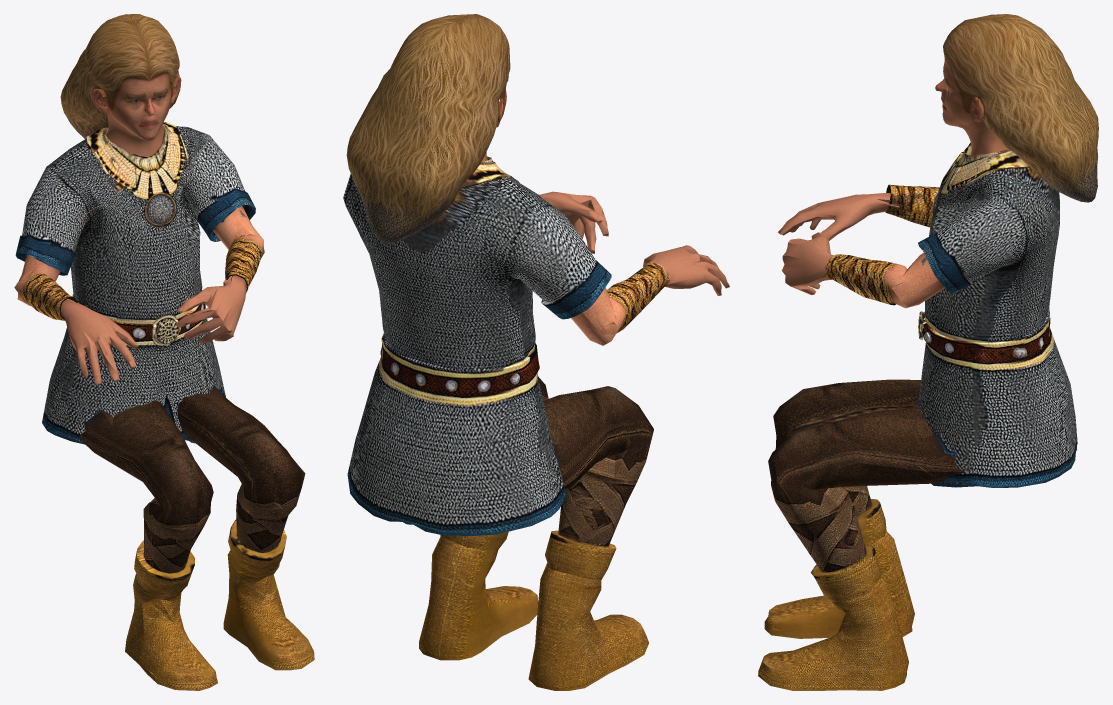
Rendered from mm9_deco_sigmundseated.glb.
3 views of the same model, side by side, from view 1: azimuth 30°, elevation 25°; view 2: azimuth 150°, elevation 25°; view 3: azimuth 270°, elevation 25° (orthographic). The views are drawn at different scales.
Parts seen in each view (by area): view 1: sigmundseated; view 2: sigmundseated; view 3: sigmundseated.
Boxes of the visible parts, x1=… form: sigmundseated: x1=14, y1=14, x2=314, y2=690; sigmundseated: x1=343, y1=14, x2=729, y2=690; sigmundseated: x1=758, y1=14, x2=1098, y2=690.
Bounding box in the file's own units: 0.5757 × 1.38 × 0.6804.
Materials: 2 (2 with a texture image).
